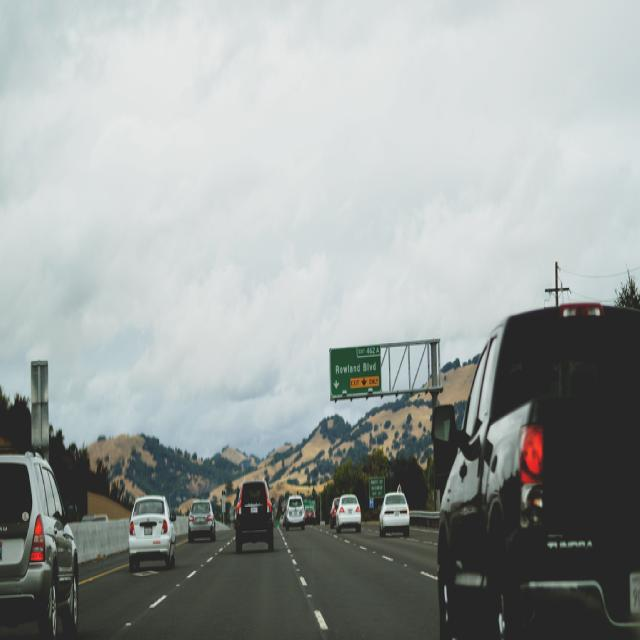car: (125, 491, 177, 562), (231, 474, 271, 549), (378, 486, 410, 535), (187, 497, 215, 535), (334, 493, 359, 526), (284, 493, 304, 525), (328, 493, 341, 525), (306, 494, 314, 522)
